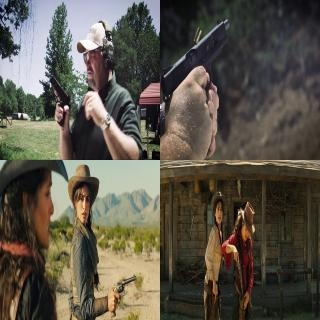gun: (160, 16, 234, 146), (47, 72, 71, 130), (110, 272, 136, 318), (233, 250, 244, 299), (212, 287, 220, 317)
